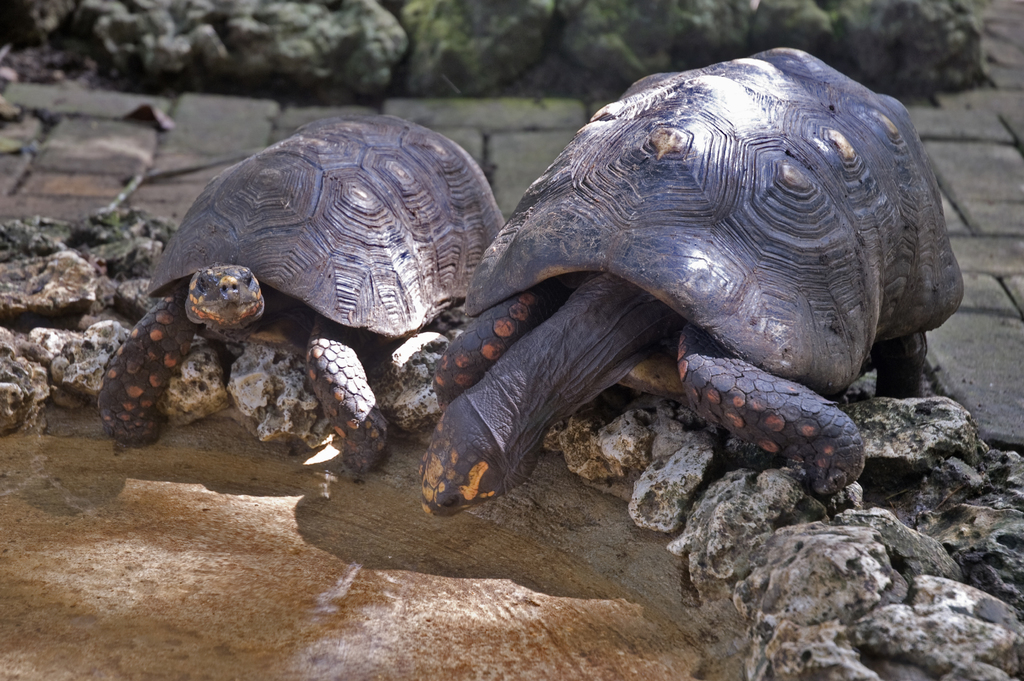Sea turtles: (419, 47, 964, 517), (92, 110, 505, 473)
